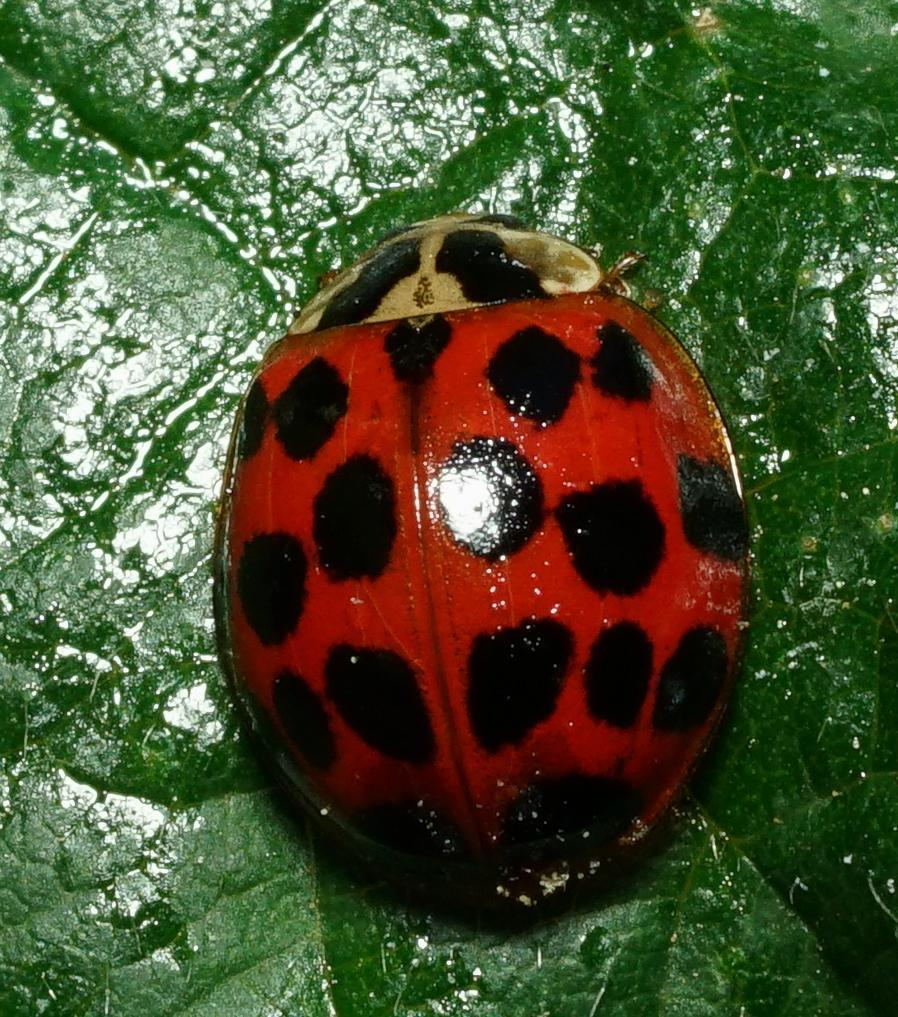ladybug: (211, 209, 756, 924)
